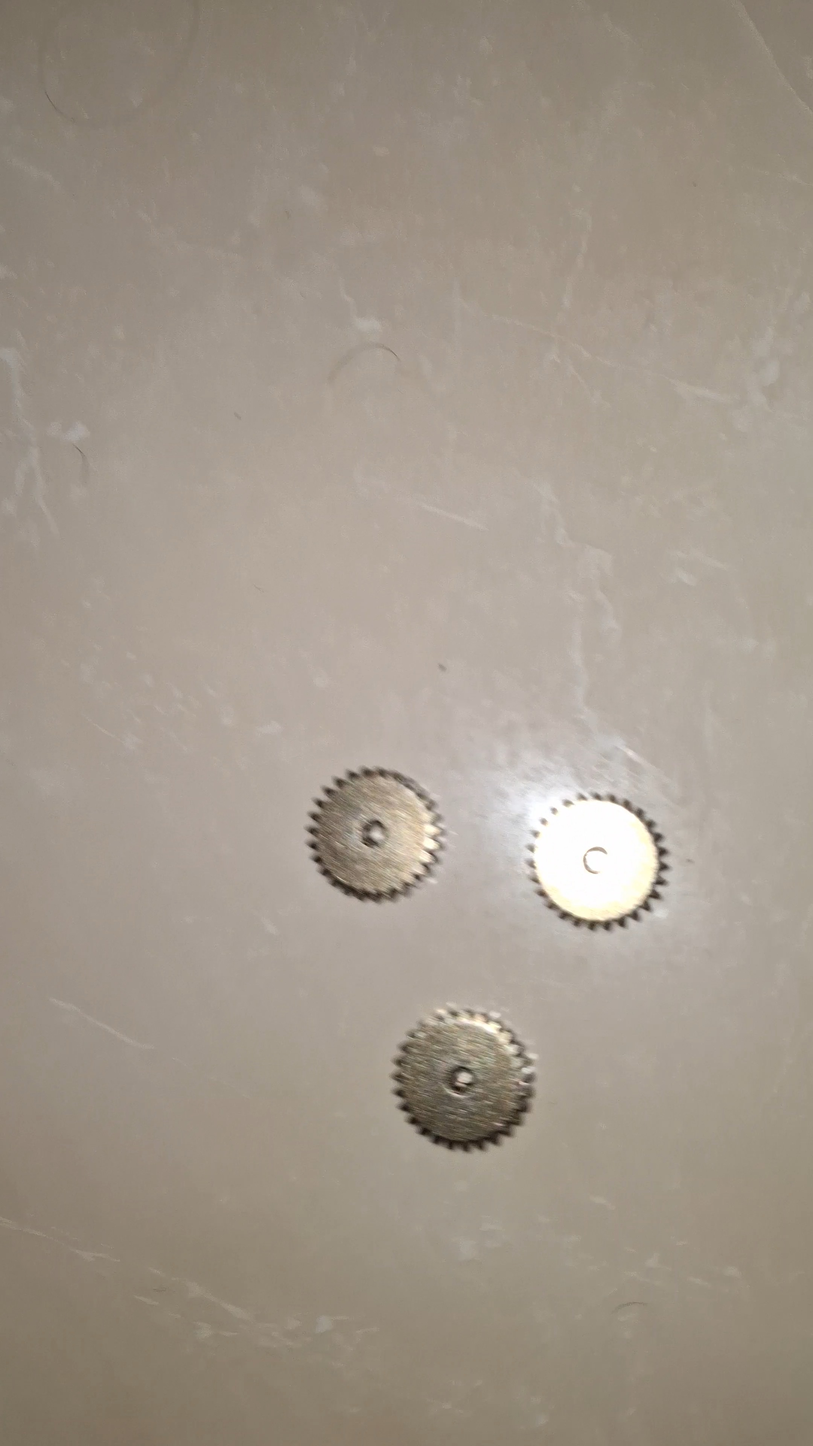spur gear: (365, 994, 511, 1141), (505, 771, 648, 913), (278, 748, 413, 883)
